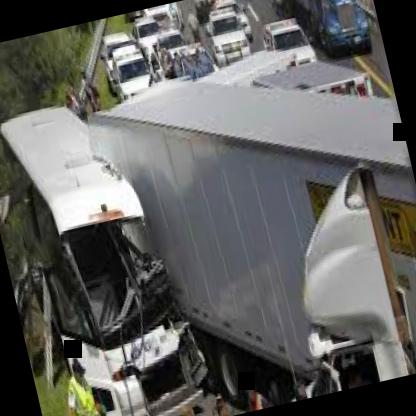accident: (0, 28, 272, 416)
